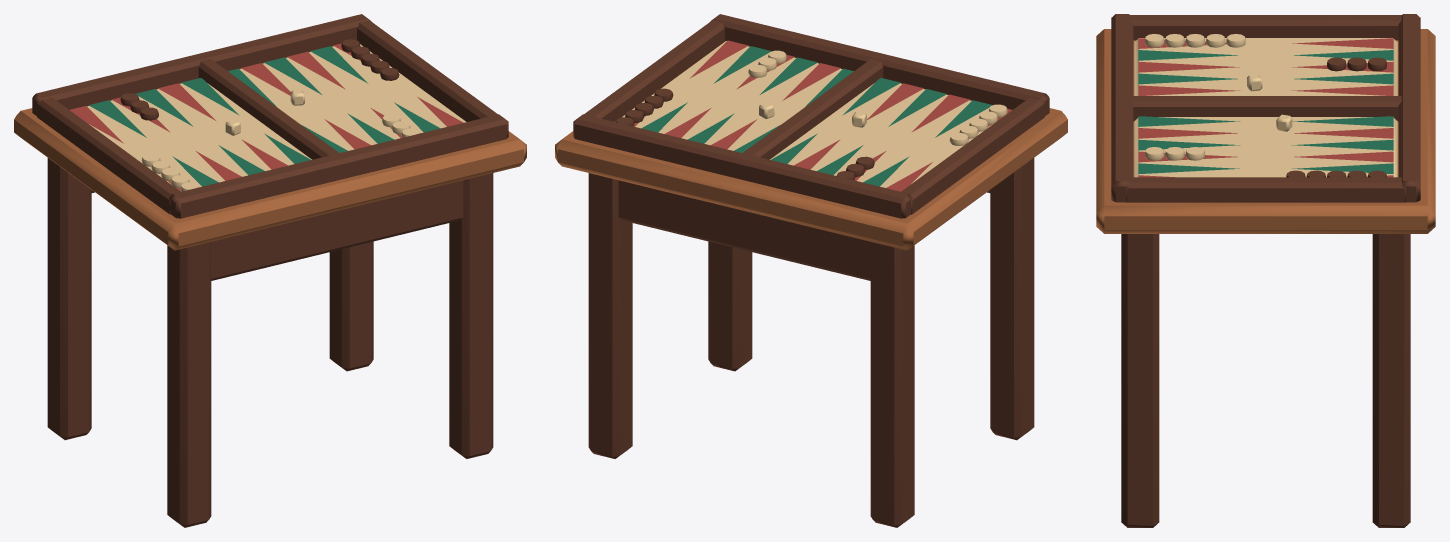
Rendered from tavla_table.glb.
3 views of the same model, side by side, from view 1: azimuth 30°, elevation 25°; view 2: azimuth 150°, elevation 25°; view 3: azimuth 270°, elevation 25° (orthographic). The views are drawn at different scales.
Visible parts, largest first — view 1: TavlaTable, Pieces; view 2: TavlaTable, Pieces; view 3: TavlaTable, Pieces.
Part boxes in pixels (x1,y1,x2,y2): TavlaTable: (14,14,526,527); Pieces: (120,39,419,191); TavlaTable: (555,14,1067,527); Pieces: (616,50,1007,180); TavlaTable: (1096,14,1435,527); Pieces: (1145,34,1386,177).
Size of the model in its own units: 0.916 by 0.821 by 0.716.
